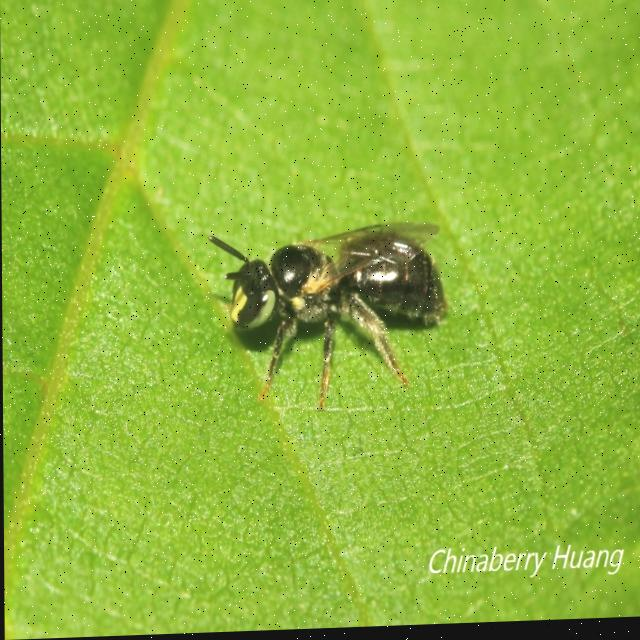Allodapula: (205, 201, 459, 396)
